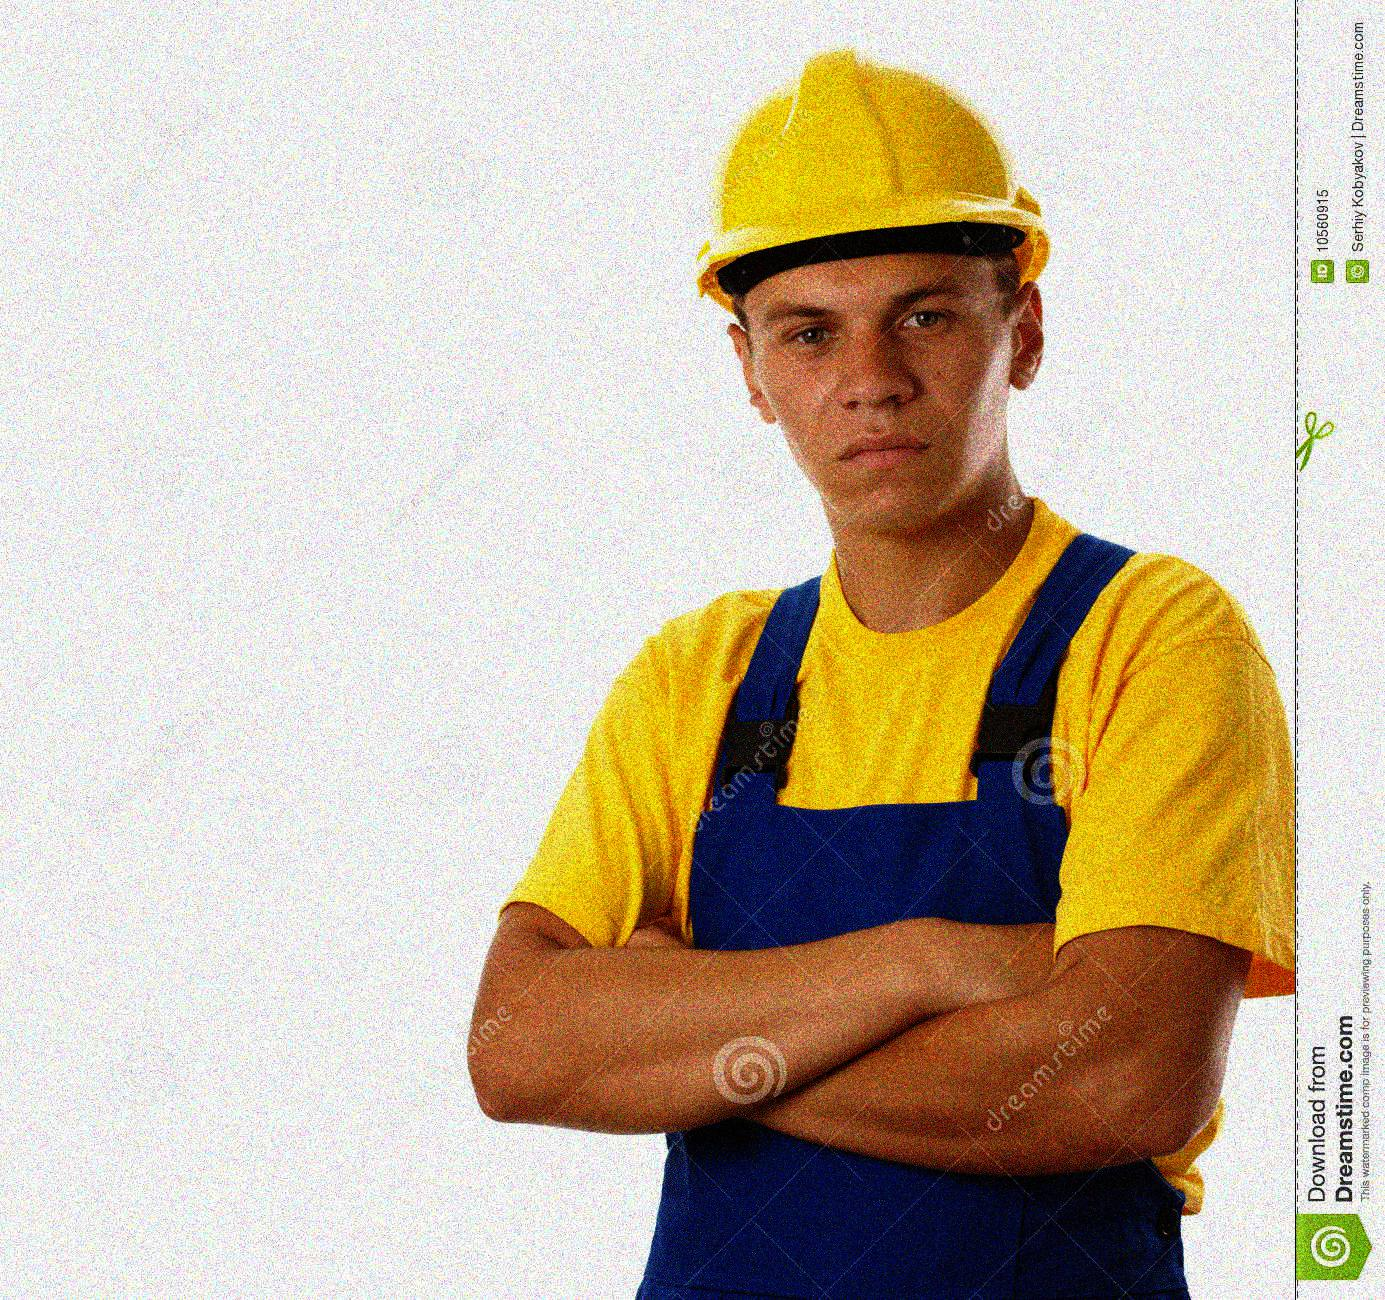helmet: (692, 35, 1048, 528)
